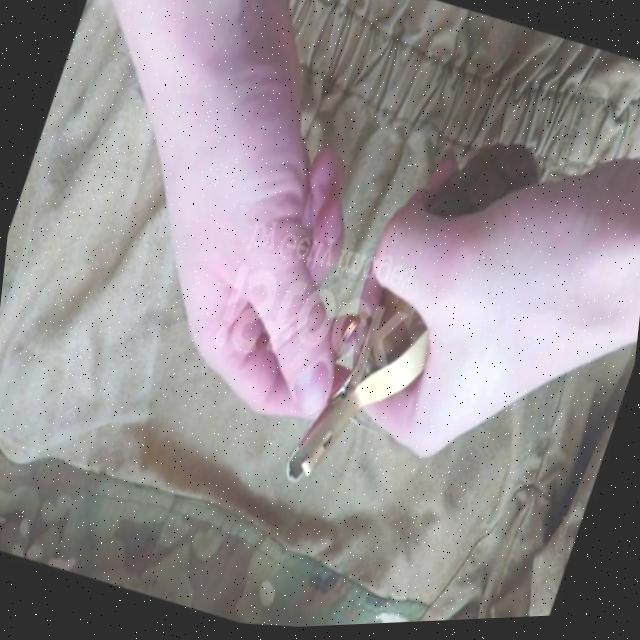grenade: (276, 95, 560, 542)
